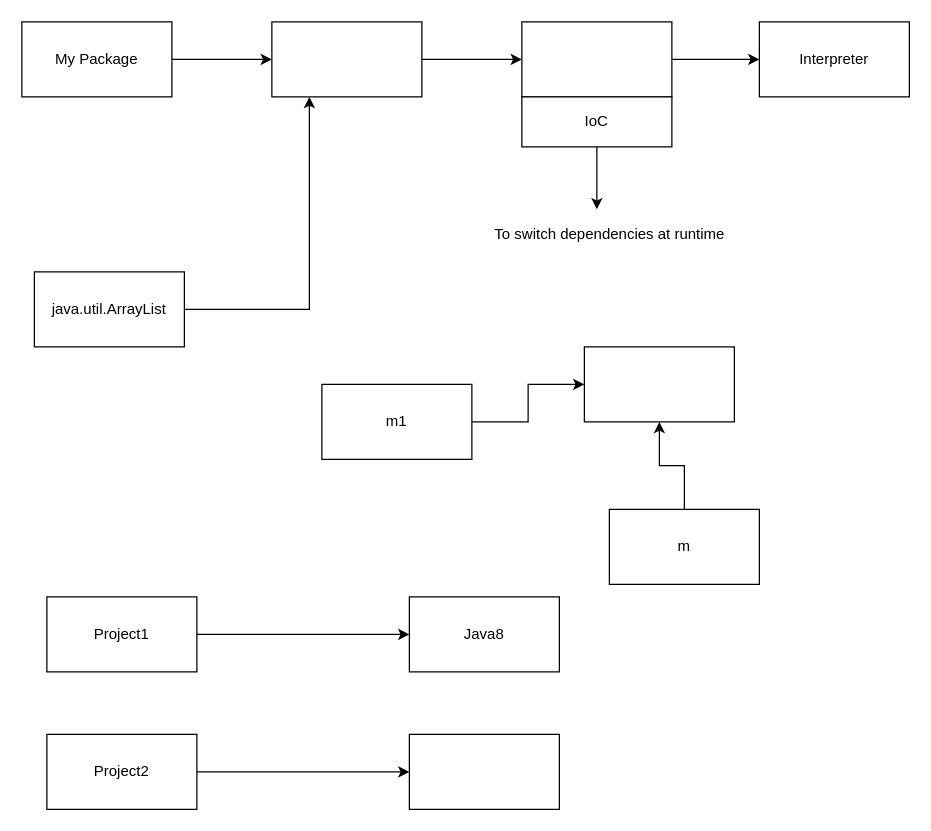
This 931x831 diagram has some shape labels left out. The shapes that lost their labels are listed below. From the top down, each one's centre as x and y in pixels, then its label:
At point (346, 59): "Compiler".
At point (596, 59): "Bytecode/Jar File".
At point (658, 384): "Message Object".
At point (483, 771): "Java11".
